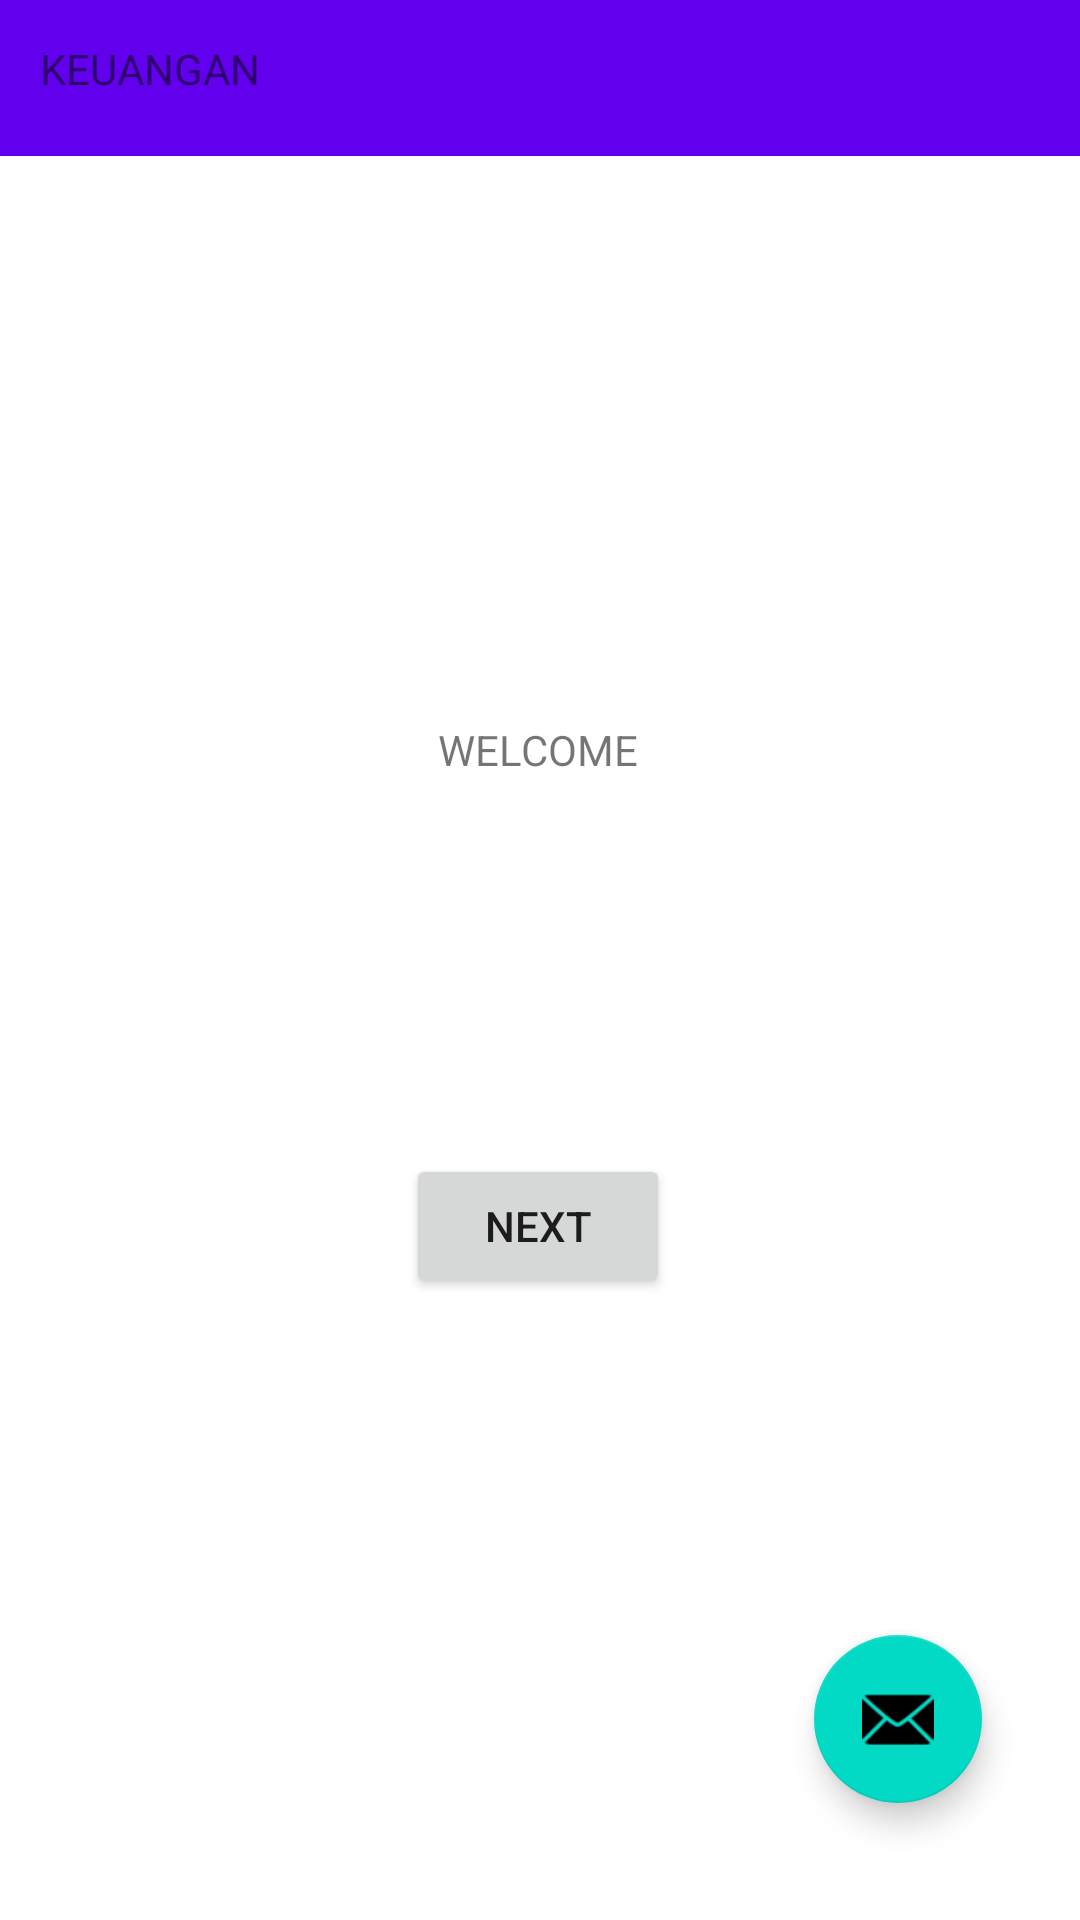

Screen size 1080*1920. Icon name, then its center in pixels as [x,y]:
email: [898,1719]
